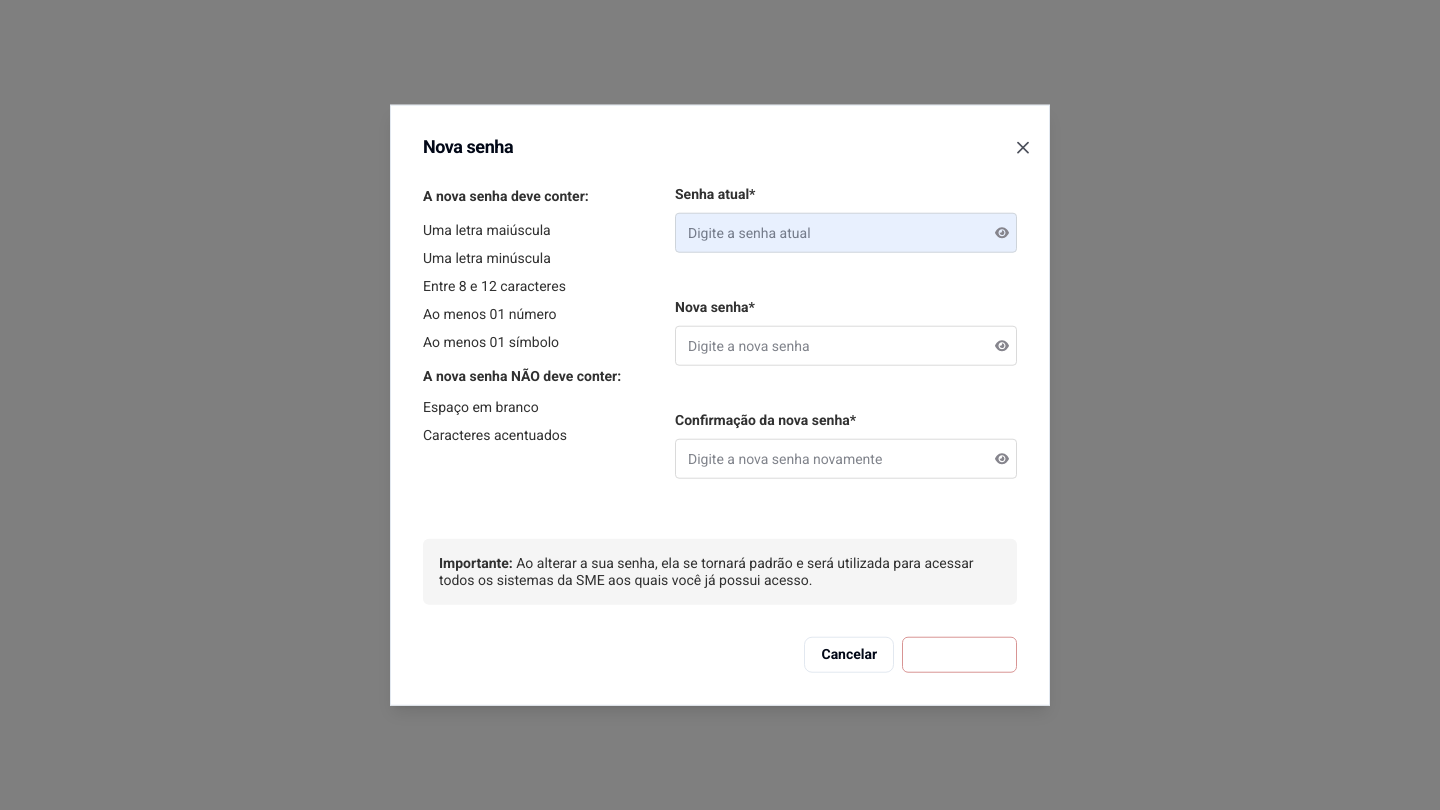
it: ModalNovaSenha › habilita botão Salvar senha apenas quando todos critérios estão ok
Type "Senha@123" into the password field with placeholder "Digite a senha atual" at (846,233), box x1=675 y1=213 x2=1017 y2=253
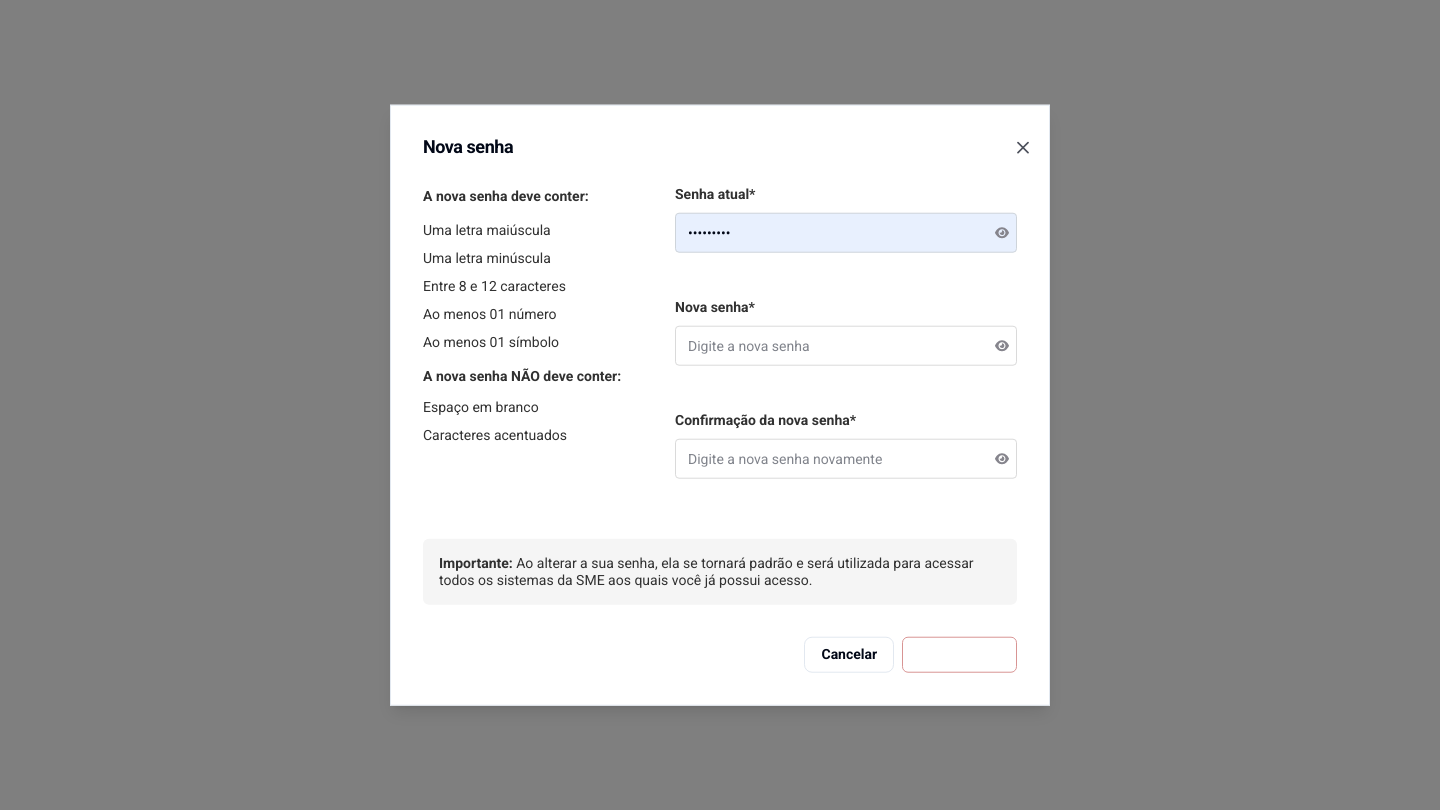
Type "Senha@123" into the password field with placeholder "Digite a nova senha" at (846,346), box x1=675 y1=326 x2=1017 y2=366
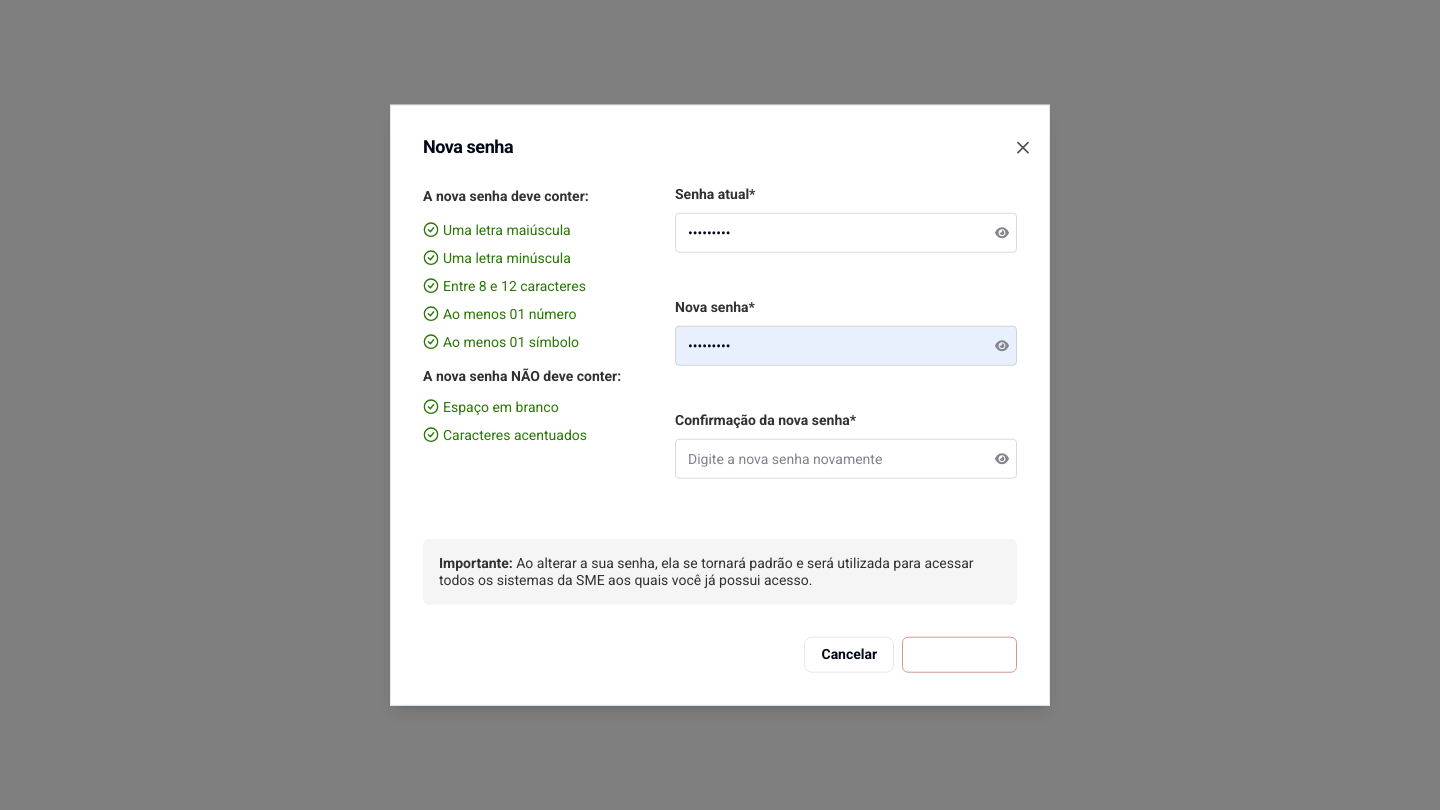
Type "Senha@123" into the password field with placeholder "Digite a nova senha novamente" at (846,459), box x1=675 y1=439 x2=1017 y2=479
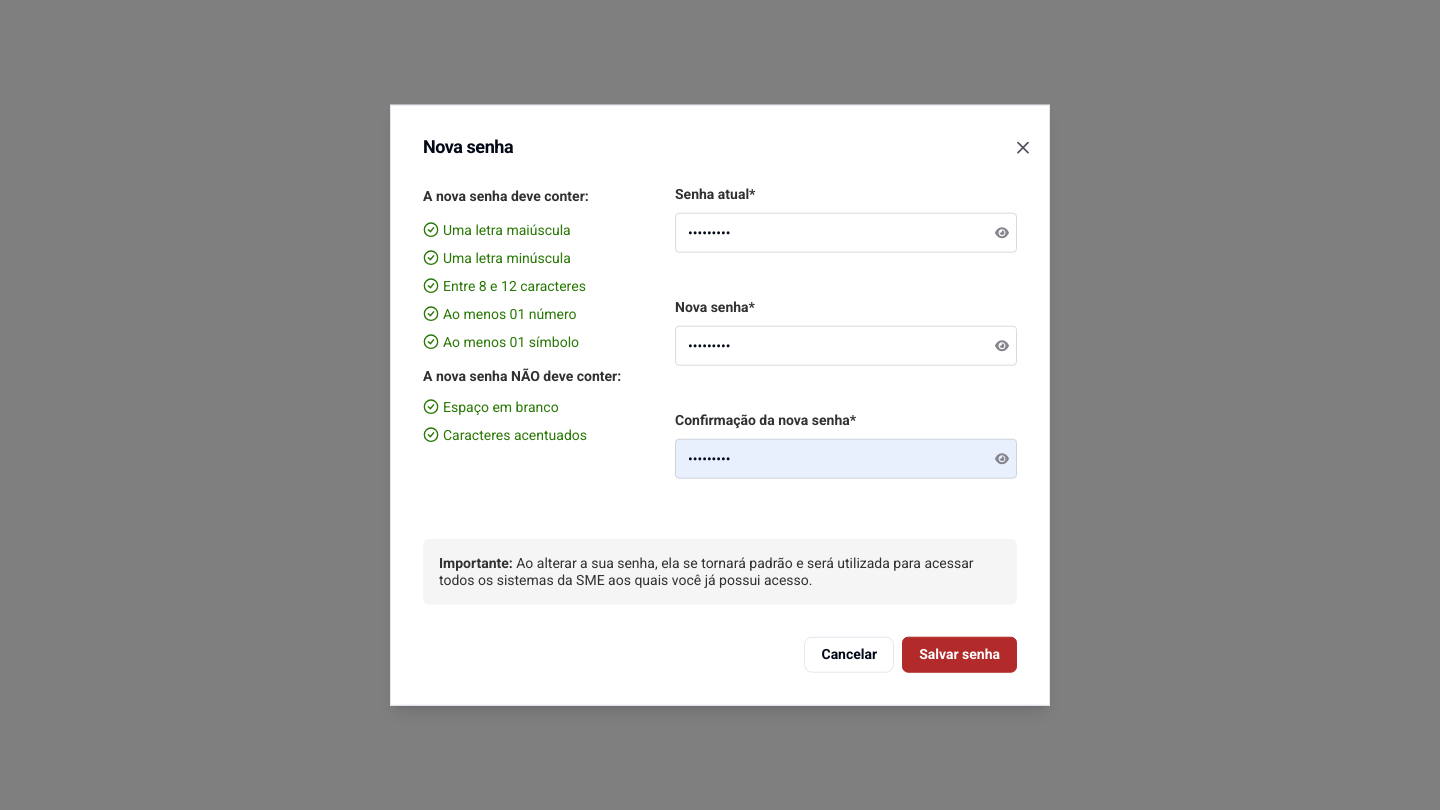
Now the button "Salvar senha" is enabled, box x1=902 y1=636 x2=1017 y2=672
